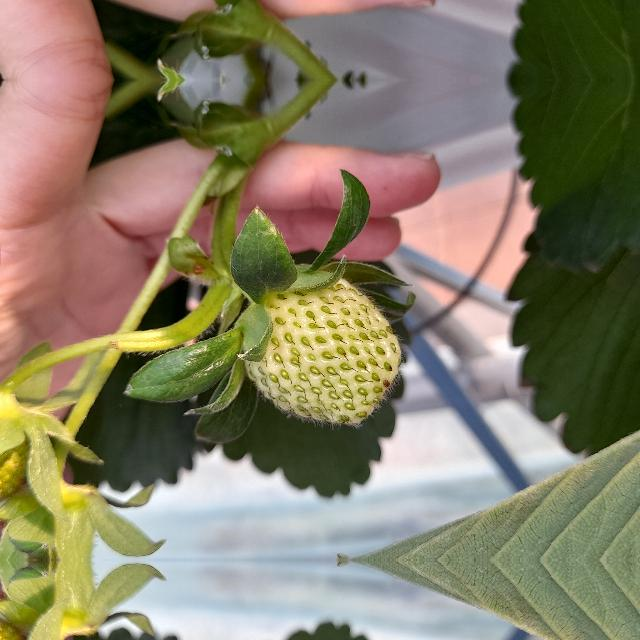Health_25: (244, 276, 402, 426)
